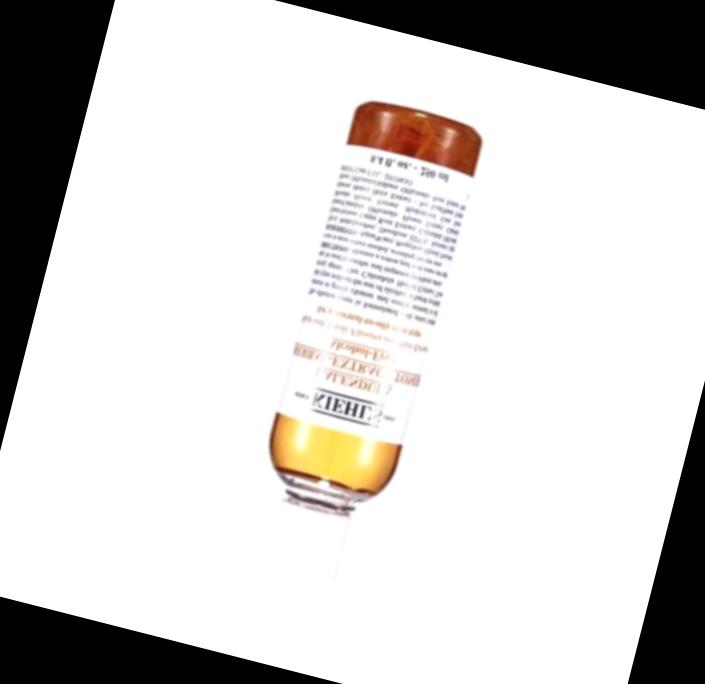cosmetic: (236, 93, 485, 609)
